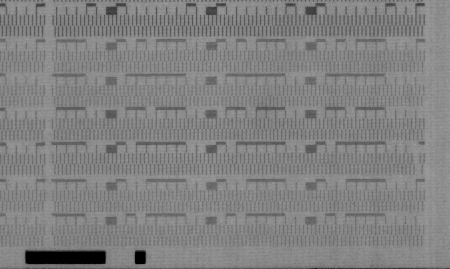Broken hole: (411, 152, 423, 176)
